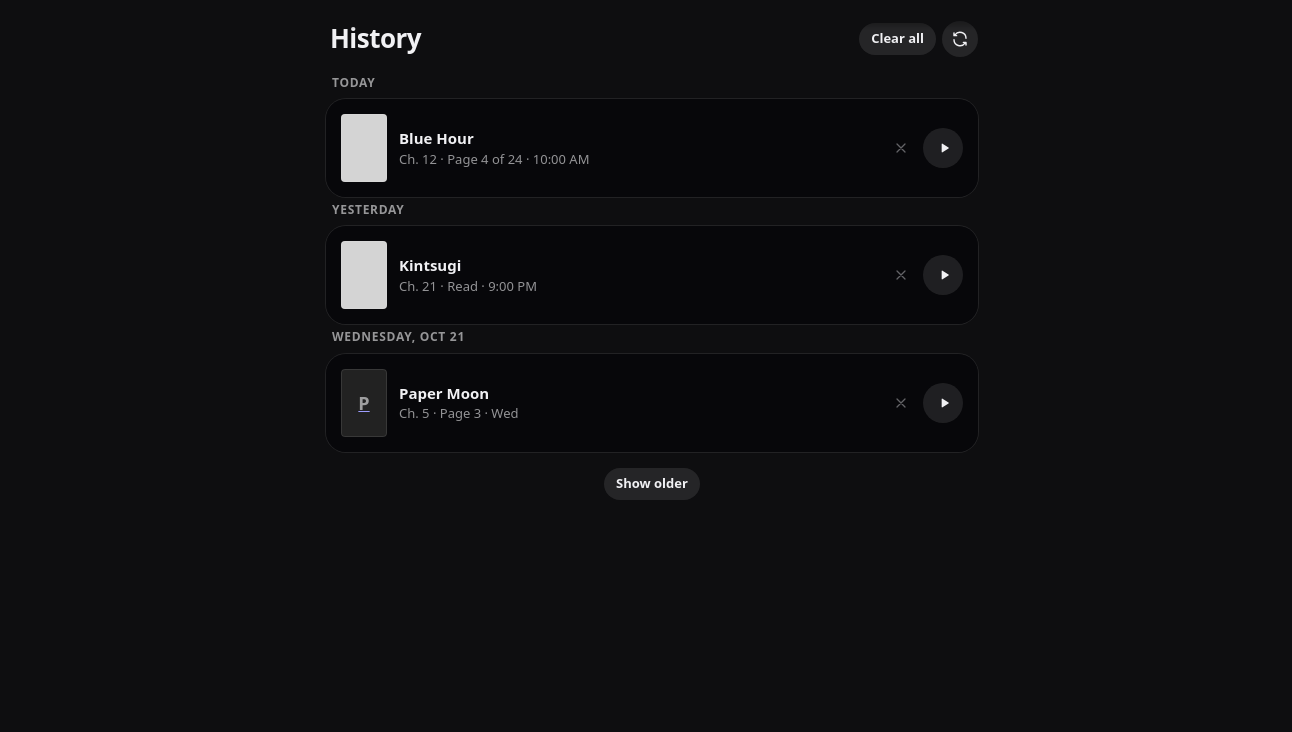
Test: opens the title from its thumbnail
Click the link named "Open Paper Moon" at (364, 403), box [341,369,387,437]
(page scrolled)
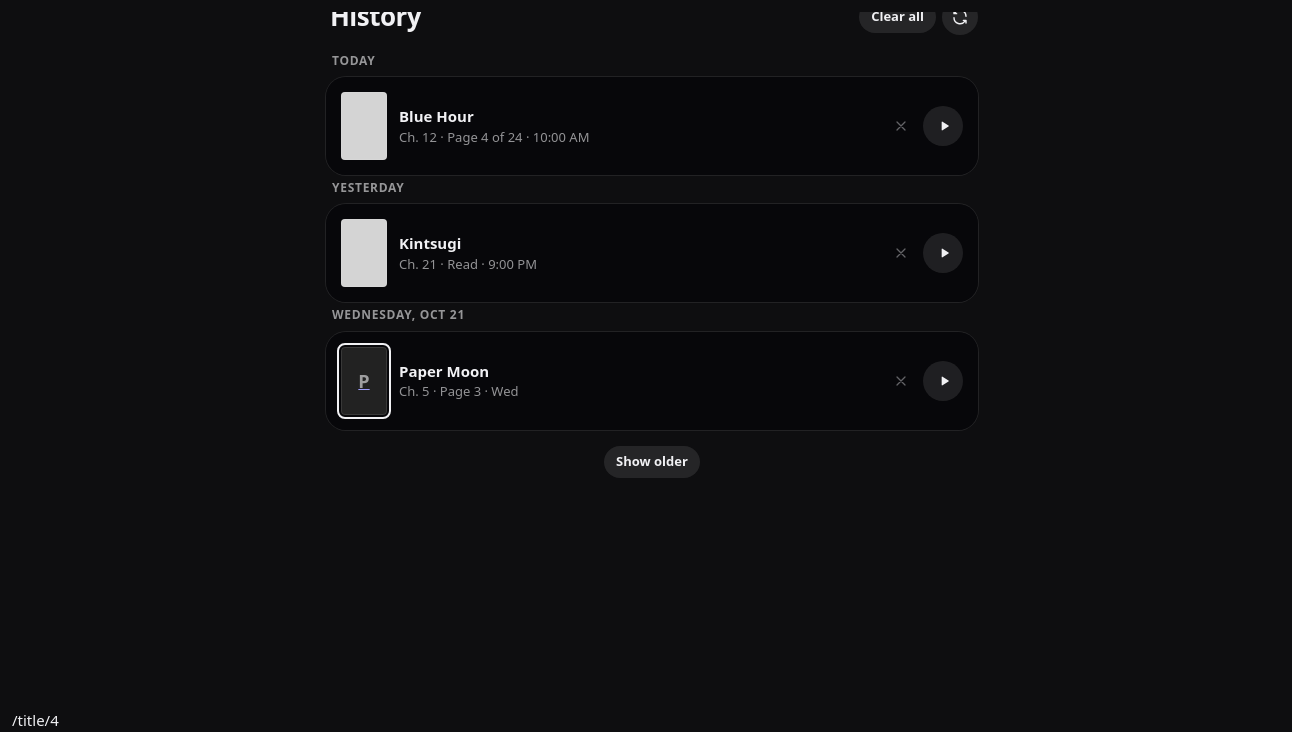
Check: the text with test id "location" reads "/title/4", box [12,710,59,730]
